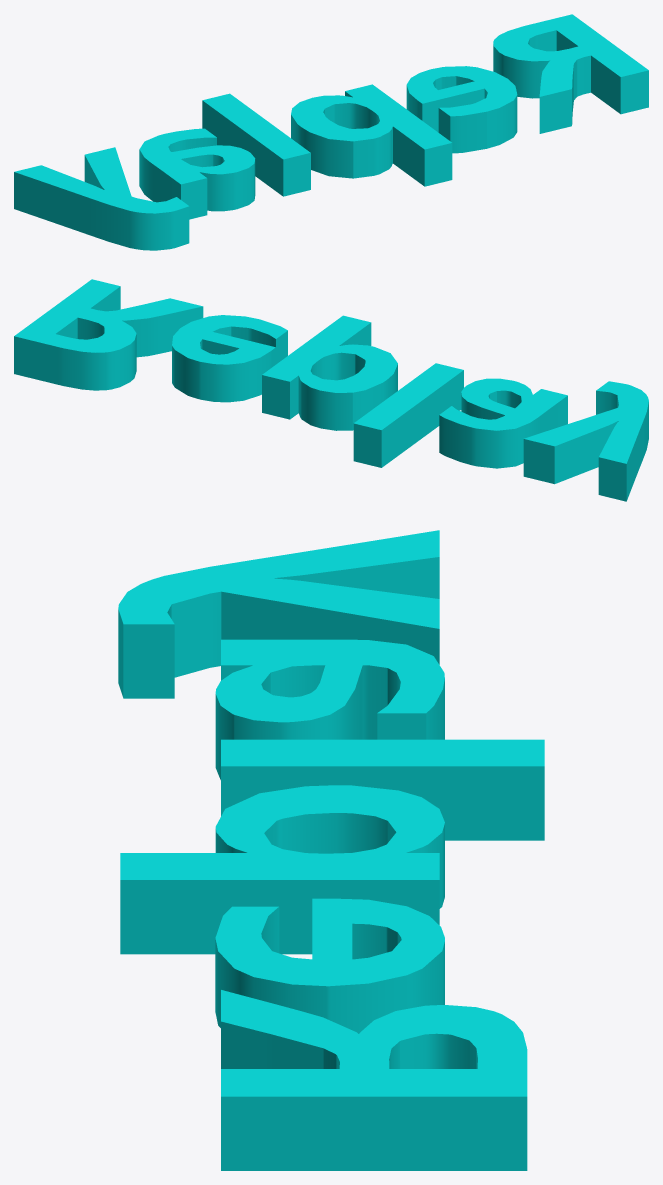
Rendered from Replay.fbx.
3 renders of one model, top to bottom at view 1: azimuth 30°, elevation 25°; view 2: azimuth 150°, elevation 25°; view 3: azimuth 270°, elevation 25°, orthographic. The views are drawn at different scales.
Visible parts, largest first — view 1: Char_R_2_curve91; view 2: Char_R_2_curve91; view 3: Char_R_2_curve91.
Boxes of the visible parts, left/top/right/bottom form: Char_R_2_curve91: left=14, top=14, right=648, bottom=250; Char_R_2_curve91: left=14, top=279, right=648, bottom=501; Char_R_2_curve91: left=118, top=530, right=544, bottom=1170.
Size of the model in its own units: 98.06 by 6.08 by 31.19.
